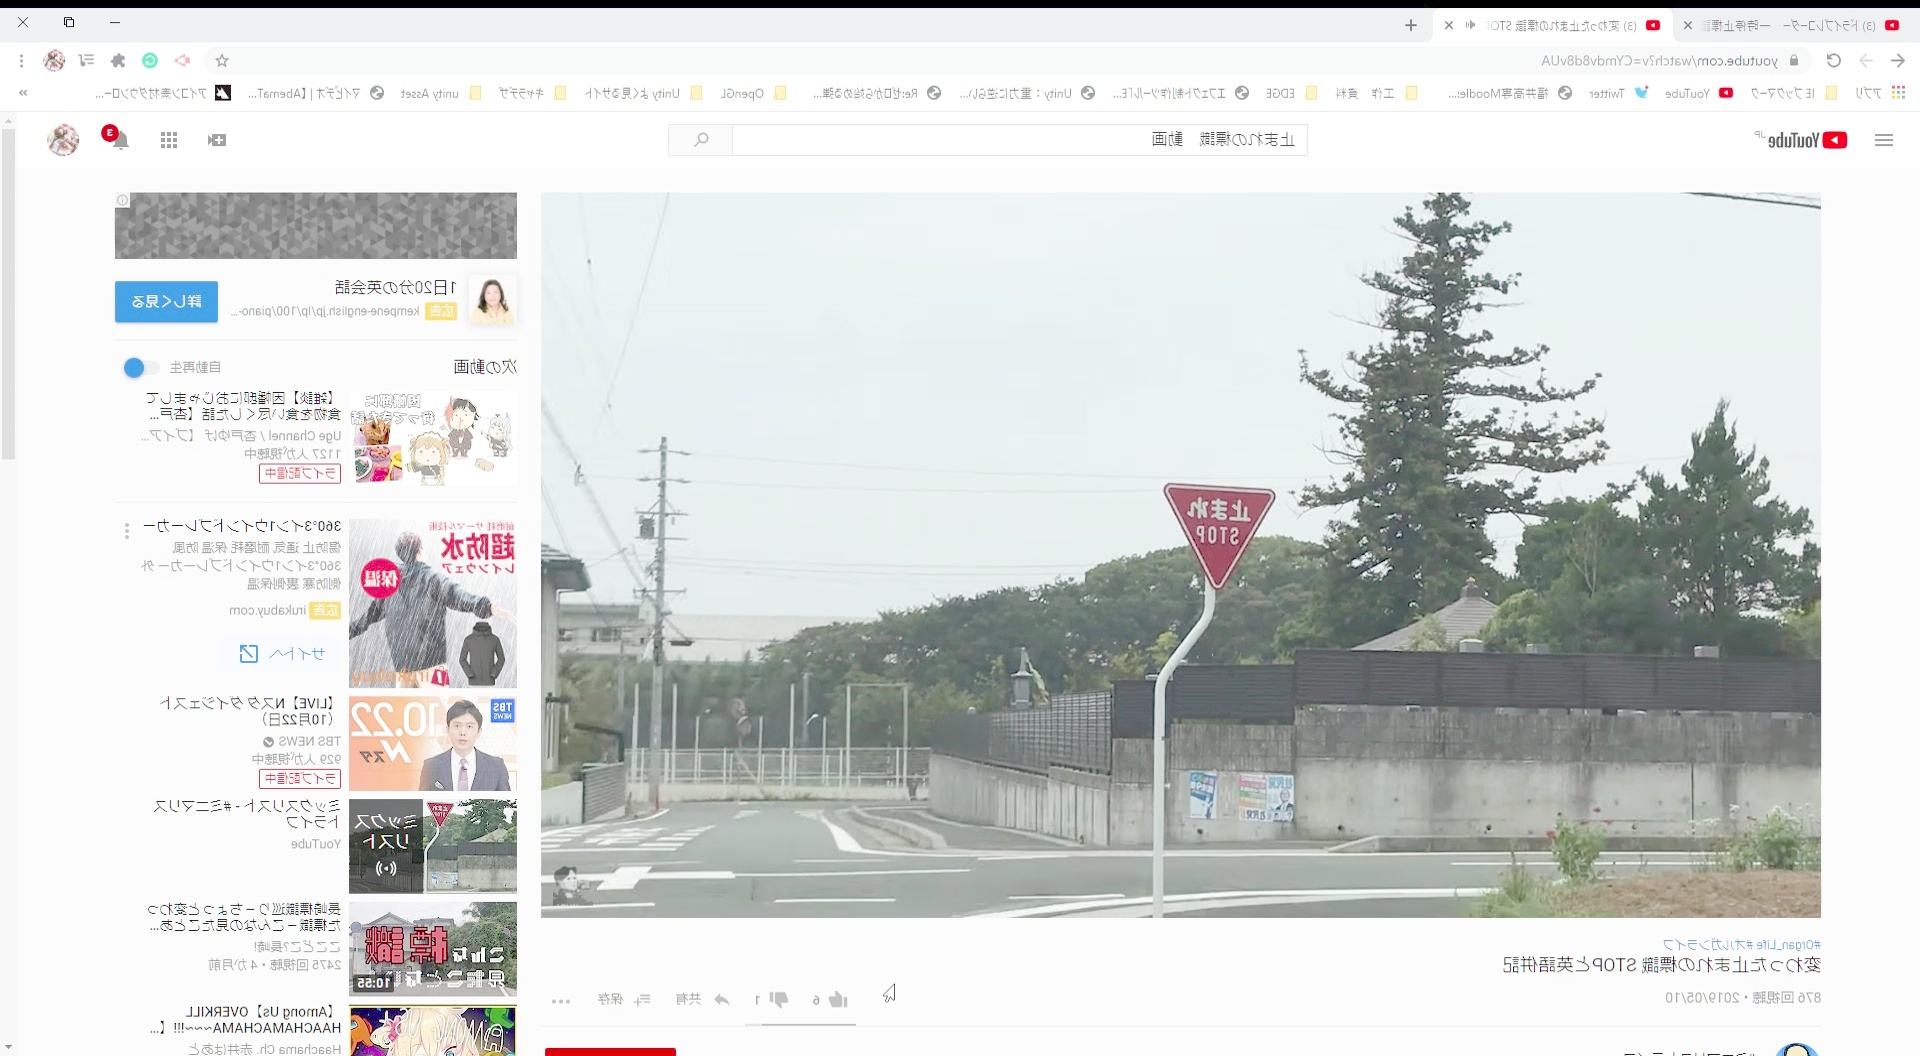Regulatory_sign_triangle: (1154, 458, 1286, 607)
